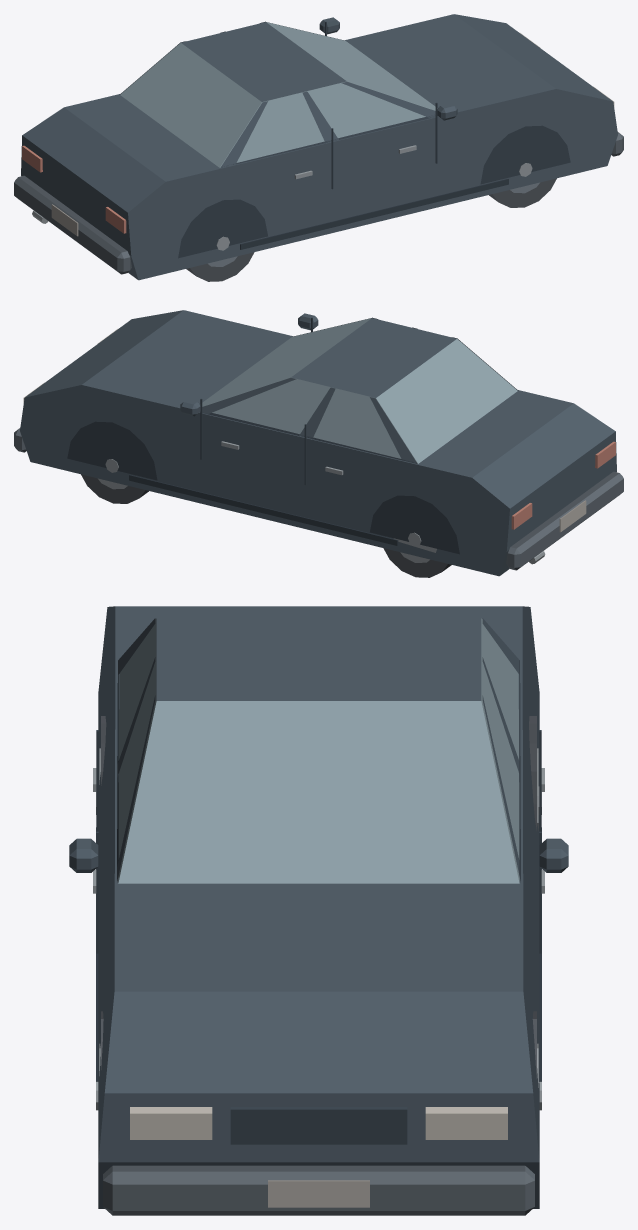
File: vehiculo_sedan.glb
3 views of the same model, one above another, from view 1: azimuth 30°, elevation 25°; view 2: azimuth 150°, elevation 25°; view 3: azimuth 270°, elevation 25° (orthographic). The views are drawn at different scales.
Size of the model in its own units: 4.85 by 1.42 by 2.06.
